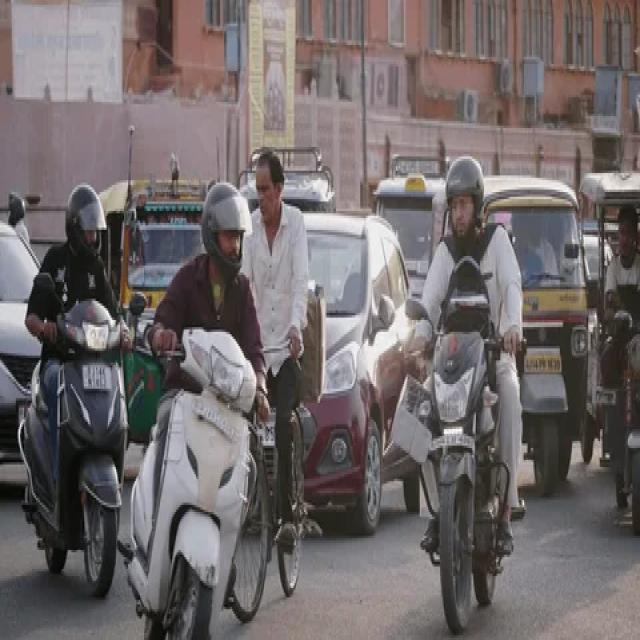Vehicles: (250, 224, 431, 587), (471, 144, 610, 503), (71, 147, 208, 485), (17, 280, 142, 621), (139, 301, 261, 640), (422, 296, 525, 640), (581, 138, 640, 586)
